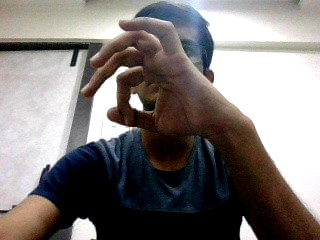hand: (81, 17, 227, 139)
